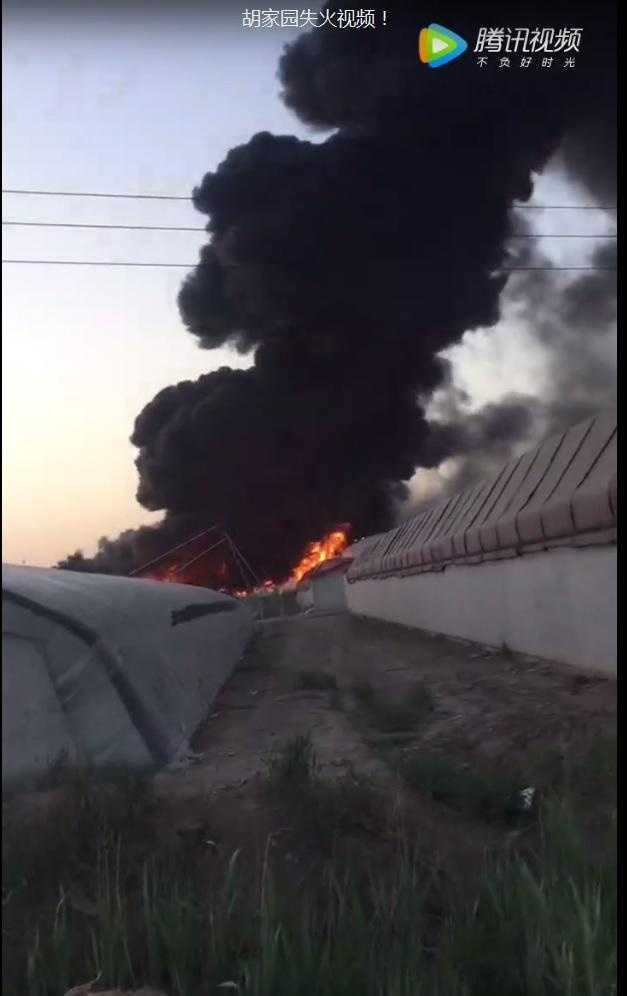fire: (214, 525, 343, 594)
